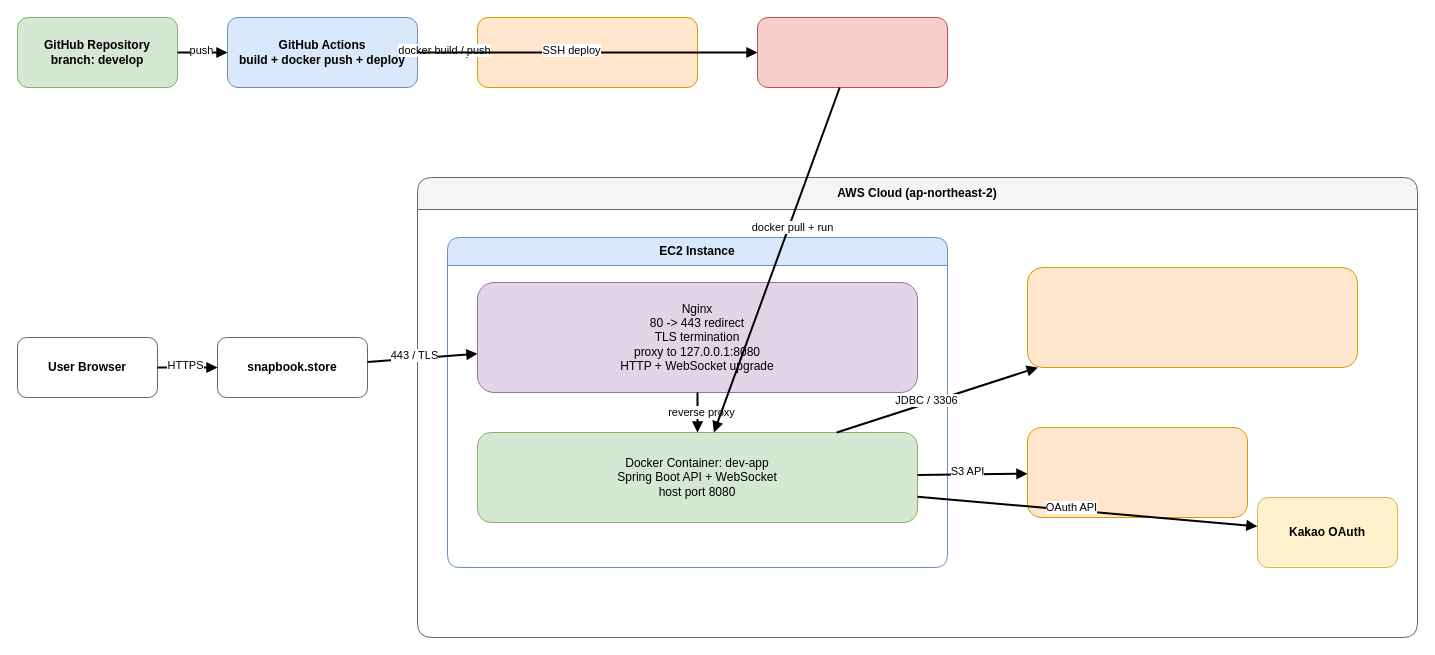
This 1435x655 diagram has some shape labels left out. Each missing label, with the centre of its shape:
Docker Hub `seobeeeee1001/spring-dev:latest`: [587,52]
EC2 Deploy SSH + docker pull/run: [852,52]
RDS MySQL database-1.c7oqi6uuacld.ap-northeast-2.rds.amazonaws.com:3306: [1192,317]
S3 file upload / image storage: [1137,472]
